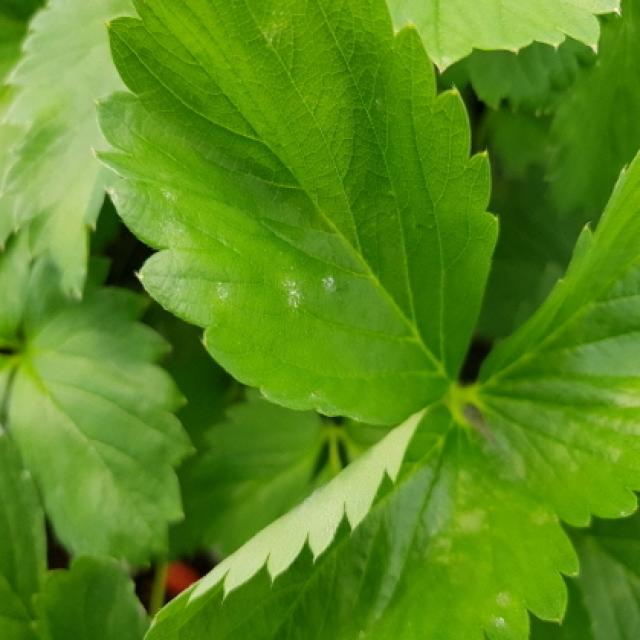Powdery Mildew Leaf: (88, 0, 499, 427)
